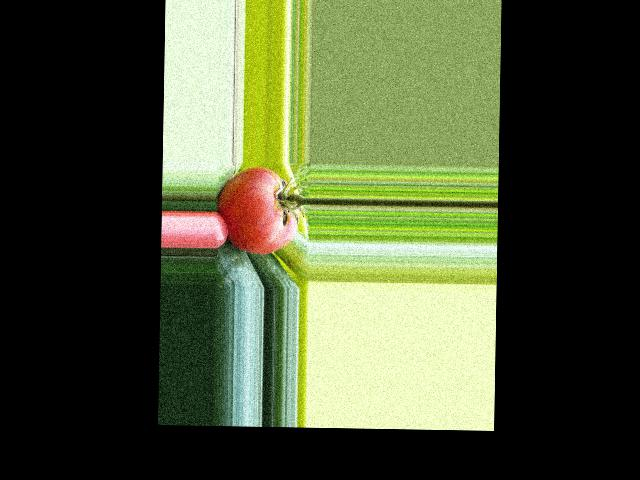tomato: (216, 166, 298, 254)
